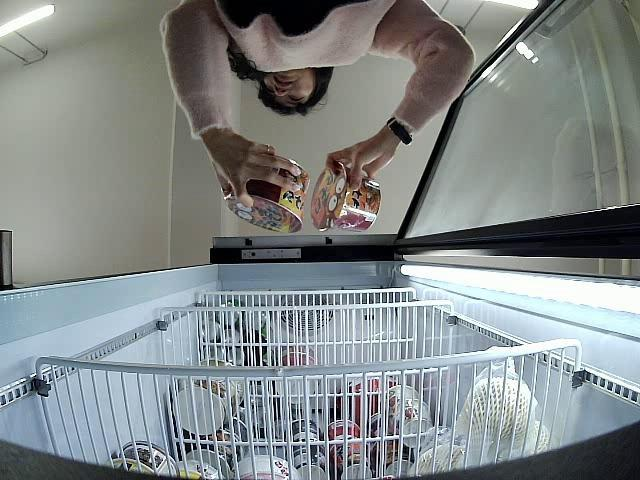05_nuguri_L: (228, 157, 308, 233), (310, 164, 382, 233)
